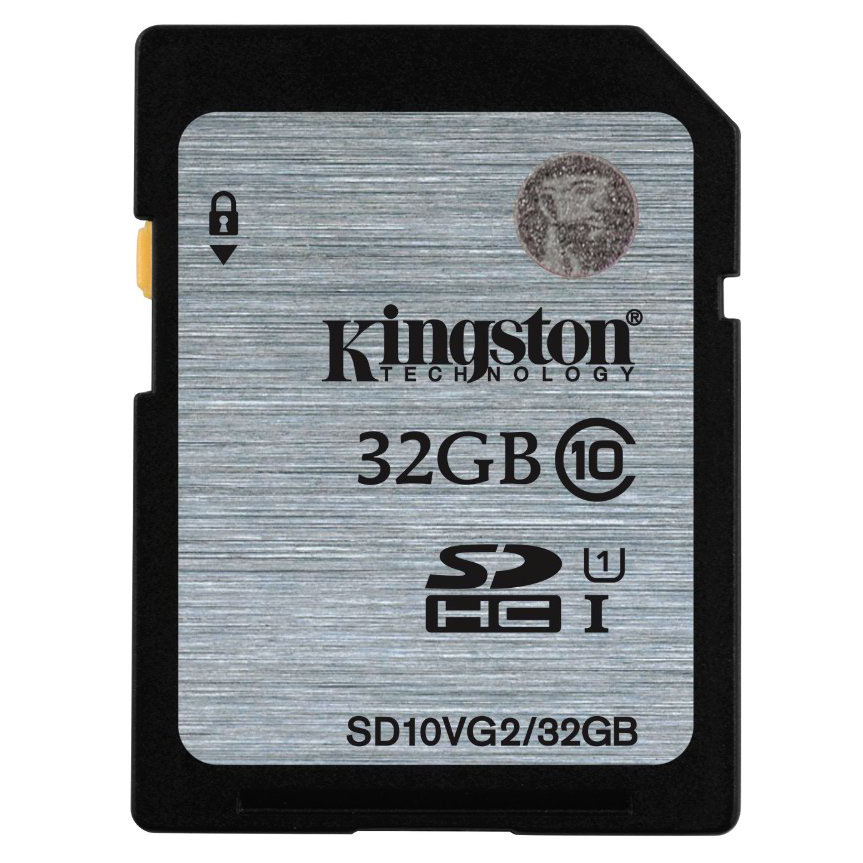Kingston: (304, 287, 660, 387)
